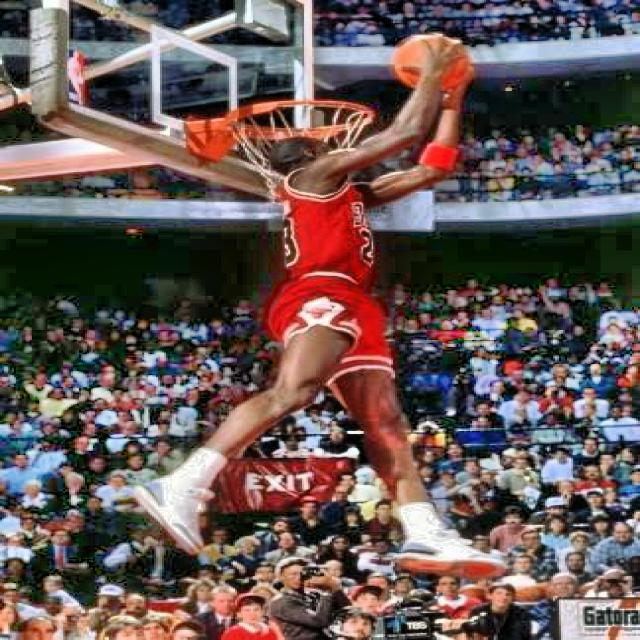board: (391, 33, 472, 92)
